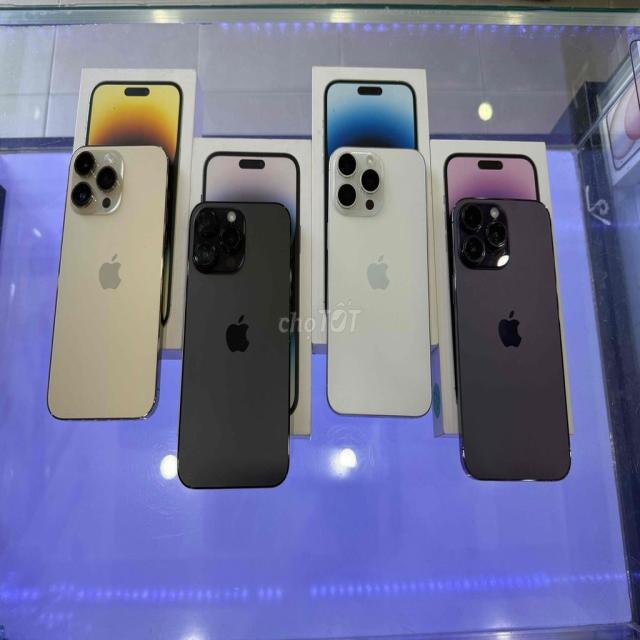gen_14: (448, 181, 581, 503), (172, 194, 296, 501), (317, 144, 437, 439), (44, 149, 163, 413)
